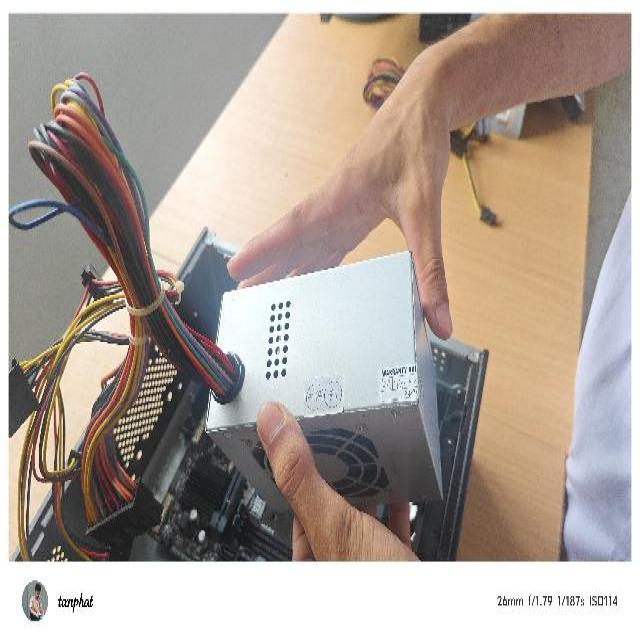PSU: (202, 248, 446, 511)
